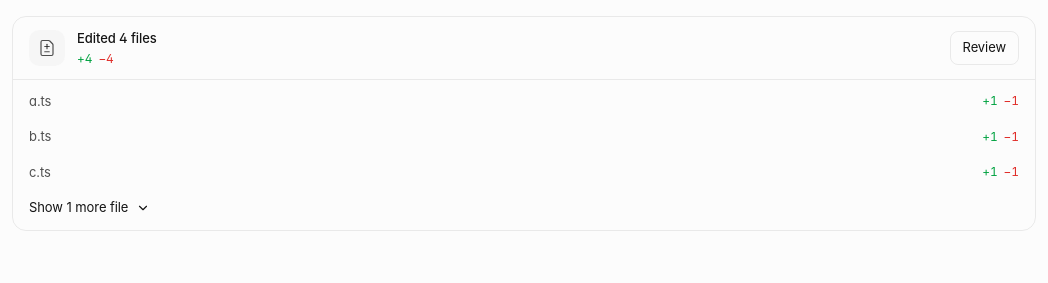
Scenario: the files-changed card › shows three files initially and expands the remainder
The width and height of the screenshot is (1048, 283).
Expected: the text "d.ts" is not shown
What coordinates should you click on to do the following:
click the button "Show 1 more file"
I would click on:
 (79, 207)
Its box is [13, 194, 1035, 230].
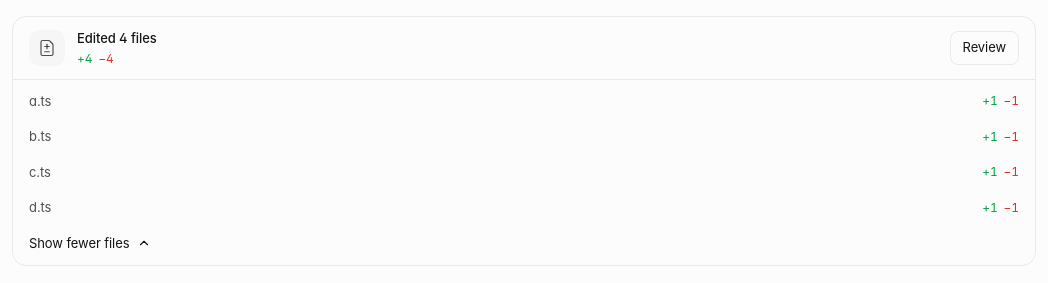
Now the text "d.ts" is shown, box [29, 199, 51, 215]
